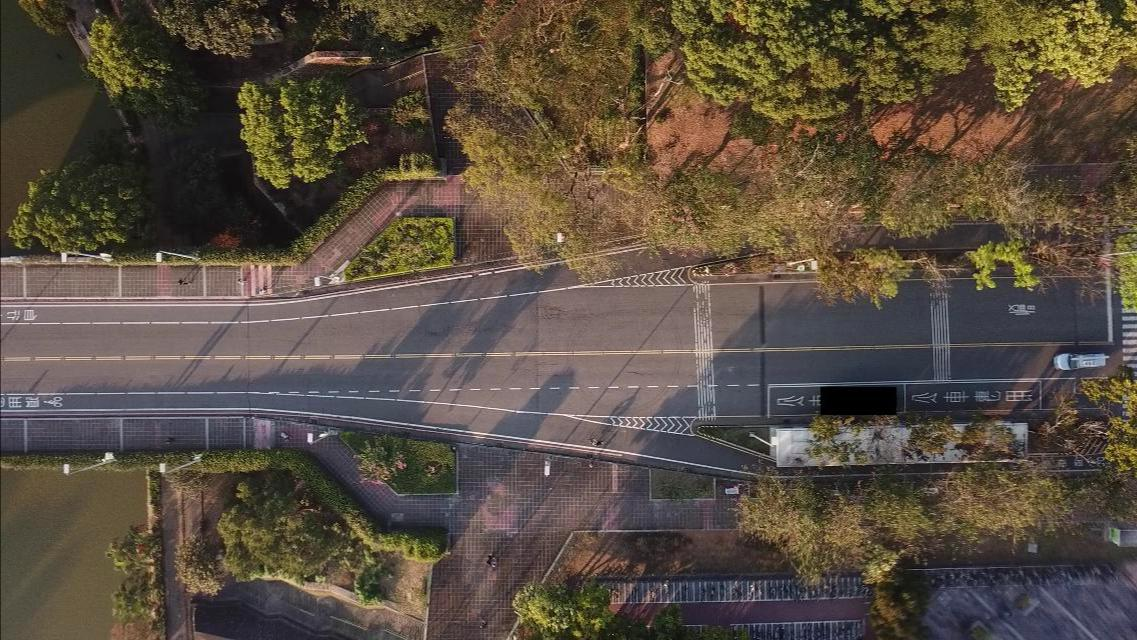vehicle: (1053, 351, 1110, 371)
